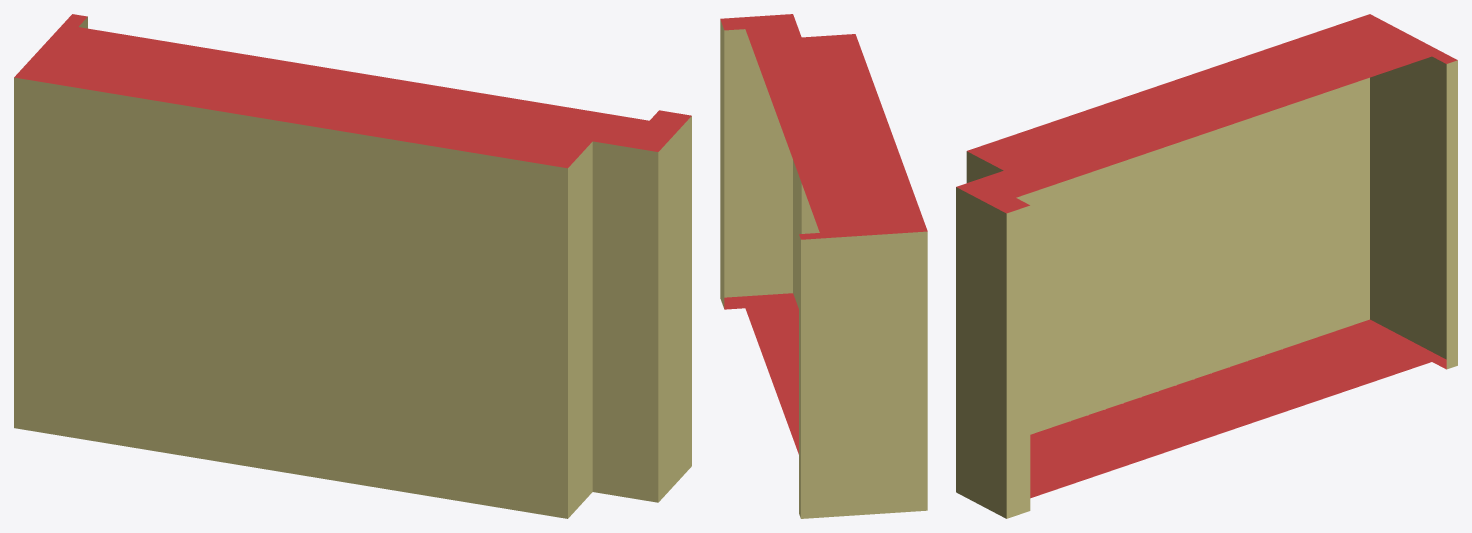
The picture shows the model from 3 angles, left to right: view 1: azimuth 30°, elevation 25°; view 2: azimuth 150°, elevation 25°; view 3: azimuth 270°, elevation 25°; orthographic projection. The views are drawn at different scales.
Parts seen in each view (by area): view 1: group_4, group_3; view 2: group_4, group_3, group_5; view 3: group_4, group_3, group_5.
Boxes of the visible parts, x1,y1,x2,y2 form: group_4: (14, 17, 691, 518); group_3: (14, 14, 691, 168); group_4: (720, 20, 927, 518); group_3: (720, 14, 927, 239); group_5: (724, 293, 798, 454); group_4: (956, 56, 1457, 518); group_3: (956, 14, 1457, 213); group_5: (1030, 319, 1446, 498).
Size of the model in its own units: 11.86 by 12.6 by 8.46.
